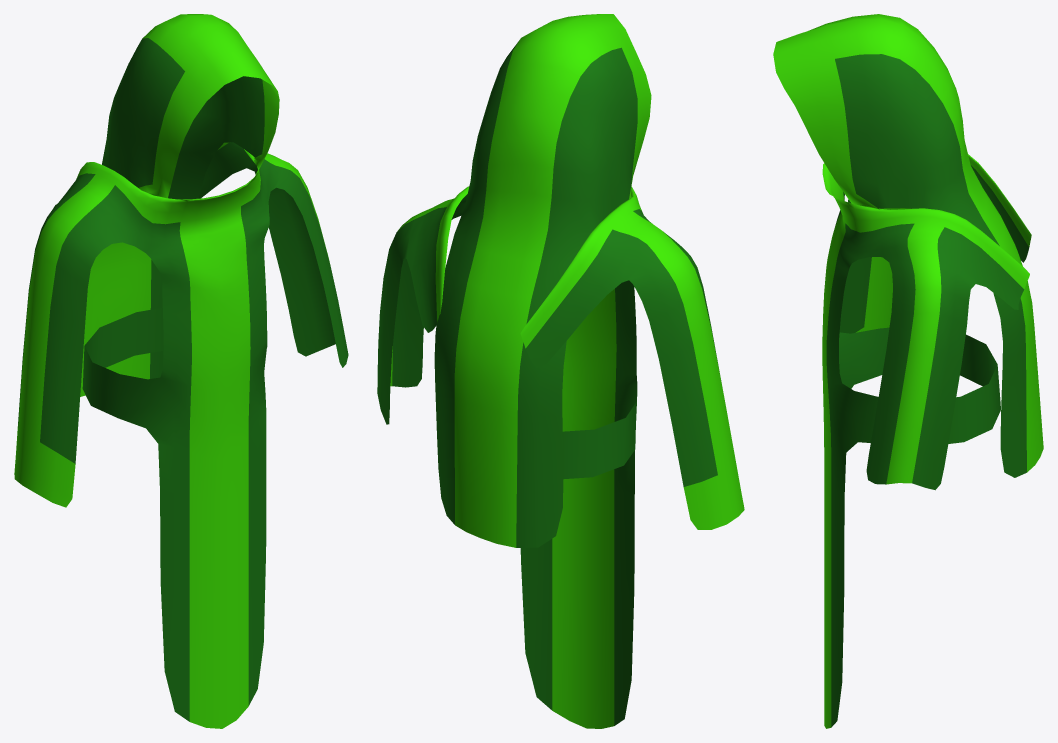
Rendered from Skeleton Robe.fbx.
3 views of the same model, side by side, from view 1: azimuth 30°, elevation 25°; view 2: azimuth 150°, elevation 25°; view 3: azimuth 270°, elevation 25° (orthographic). The views are drawn at different scales.
Parts seen in each view (by area): view 1: Cube; view 2: Cube; view 3: Cube.
Part boxes in pixels (x1,y1,x2,y2): Cube: (14,14,348,728); Cube: (377,14,744,728); Cube: (773,14,1043,728).
Size of the model in its own units: 145 by 289 by 100.
